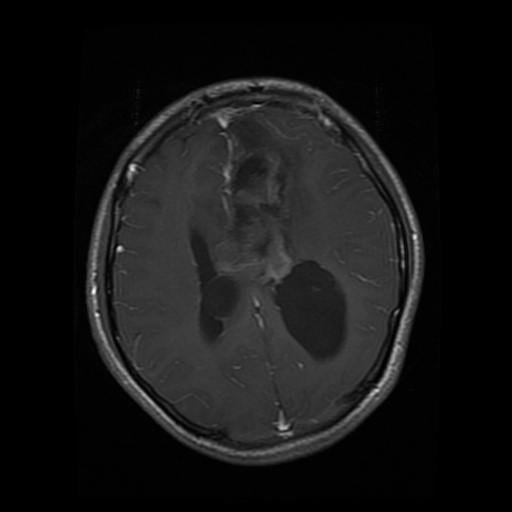glioma: (190, 118, 307, 283)
